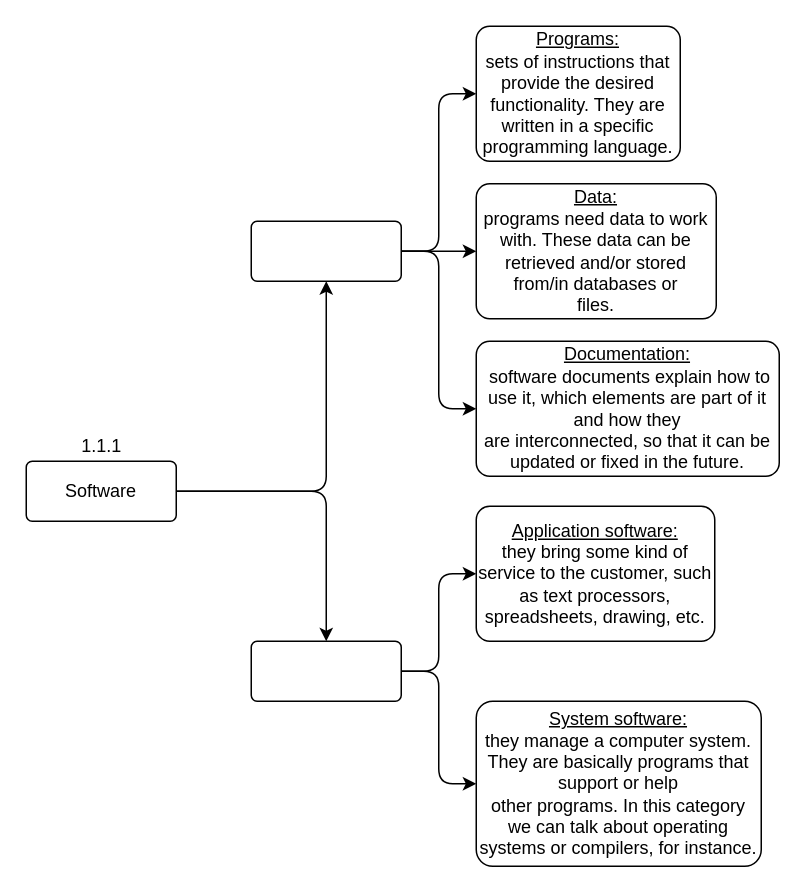
This 806x893 diagram has some shape labels left out. The shapes that lost their labels are listed below. From the top down, each one's centre as x and y in pixels, then its label:
At (x=325, y=250): "Components".
At (x=325, y=670): "Types".
